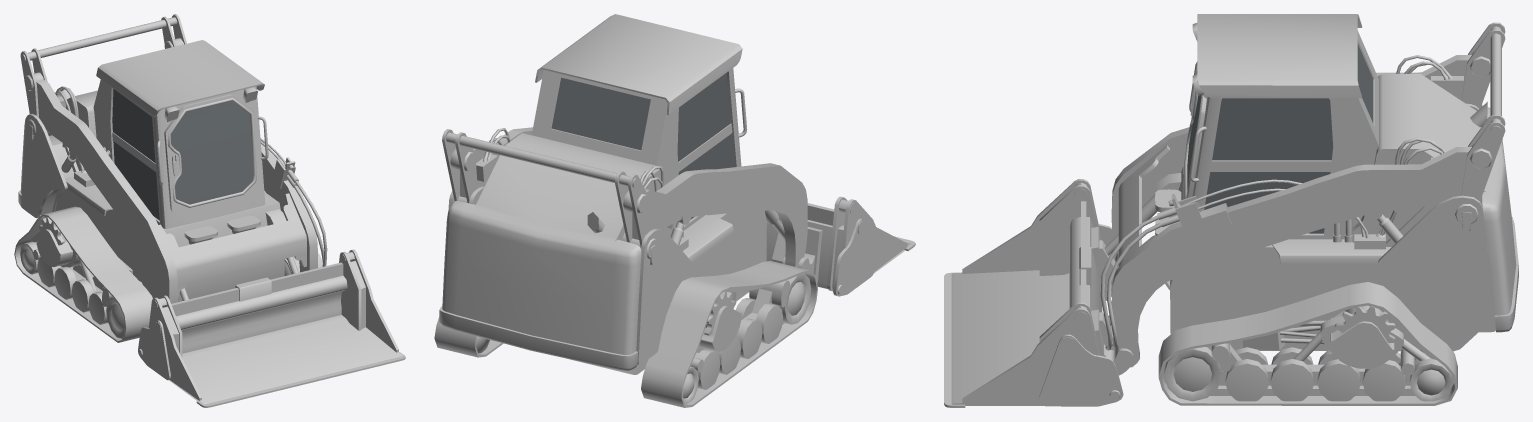
The picture shows the model from 3 angles, left to right: view 1: azimuth 30°, elevation 25°; view 2: azimuth 150°, elevation 25°; view 3: azimuth 270°, elevation 25°; orthographic projection. The views are drawn at different scales.
Parts seen in each view (by area): view 1: Body_LOD1, Windows_LOD1, Track_LOD1; view 2: Body_LOD1, Track_LOD1, Windows_LOD1; view 3: Body_LOD1, Windows_LOD1, Track_LOD1.
Part boxes in pixels (<box>): Body_LOD1: <box>18,14,405,407</box>; Windows_LOD1: <box>112,89,253,220</box>; Track_LOD1: <box>14,191,322,342</box>; Body_LOD1: <box>439,14,915,403</box>; Track_LOD1: <box>434,261,817,407</box>; Windows_LOD1: <box>551,73,734,219</box>; Body_LOD1: <box>944,14,1518,407</box>; Windows_LOD1: <box>1187,44,1373,233</box>; Track_LOD1: <box>1158,280,1457,405</box>.
Bounding box in the file's own units: 3.2 × 3.26 × 5.77.
